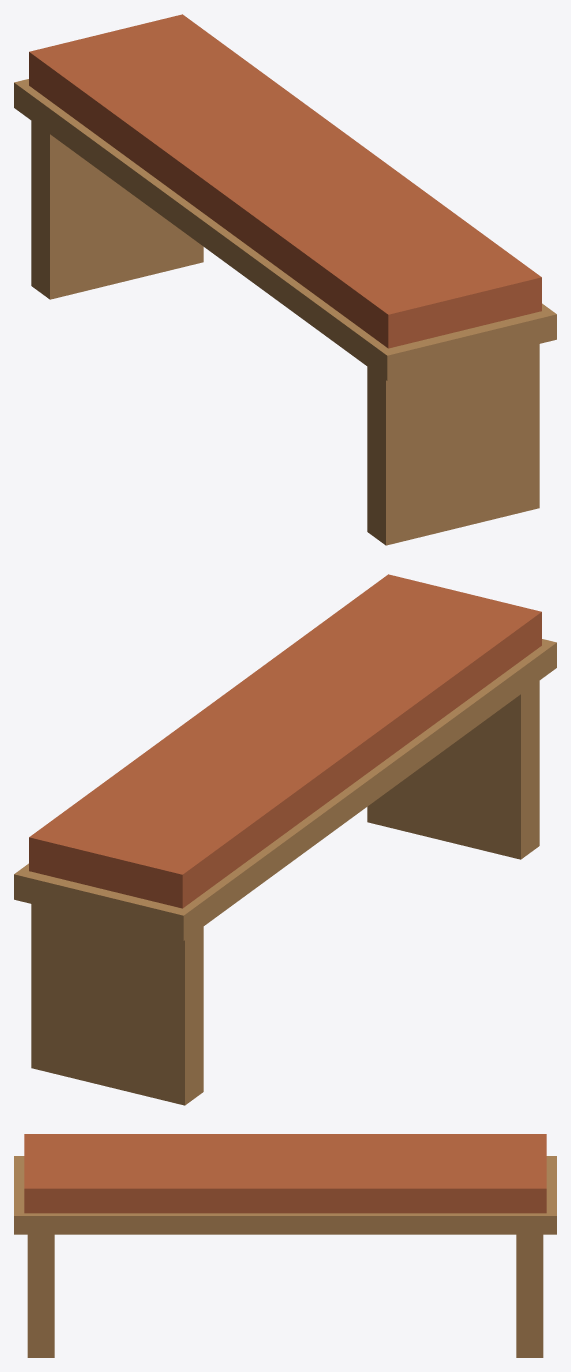
3 views of the same model, one above another, from view 1: azimuth 30°, elevation 25°; view 2: azimuth 150°, elevation 25°; view 3: azimuth 270°, elevation 25° (orthographic). The views are drawn at different scales.
Visible parts, largest first — view 1: banco_patio; view 2: banco_patio; view 3: banco_patio.
Boxes of the visible parts, bbox=[...] form: banco_patio: bbox=[14, 14, 556, 545]; banco_patio: bbox=[14, 574, 556, 1105]; banco_patio: bbox=[14, 1134, 556, 1357].
Size of the model in its own units: 0.42 by 1.6 by 0.55.
